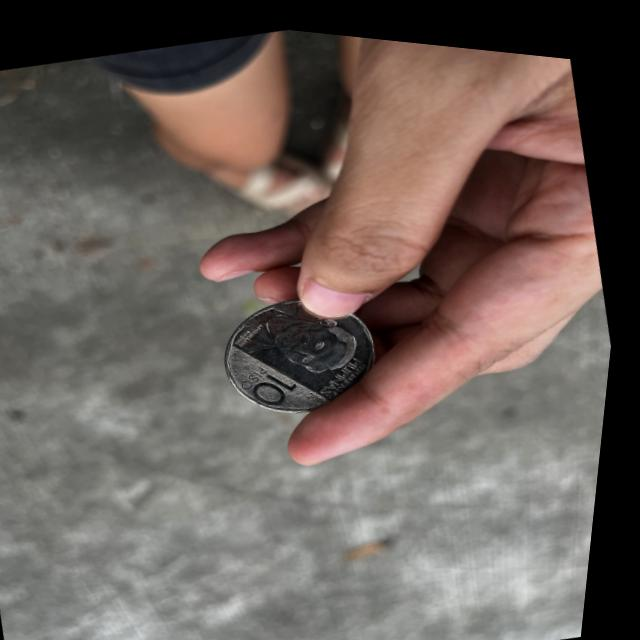10_New_Front: (234, 343, 310, 413)
